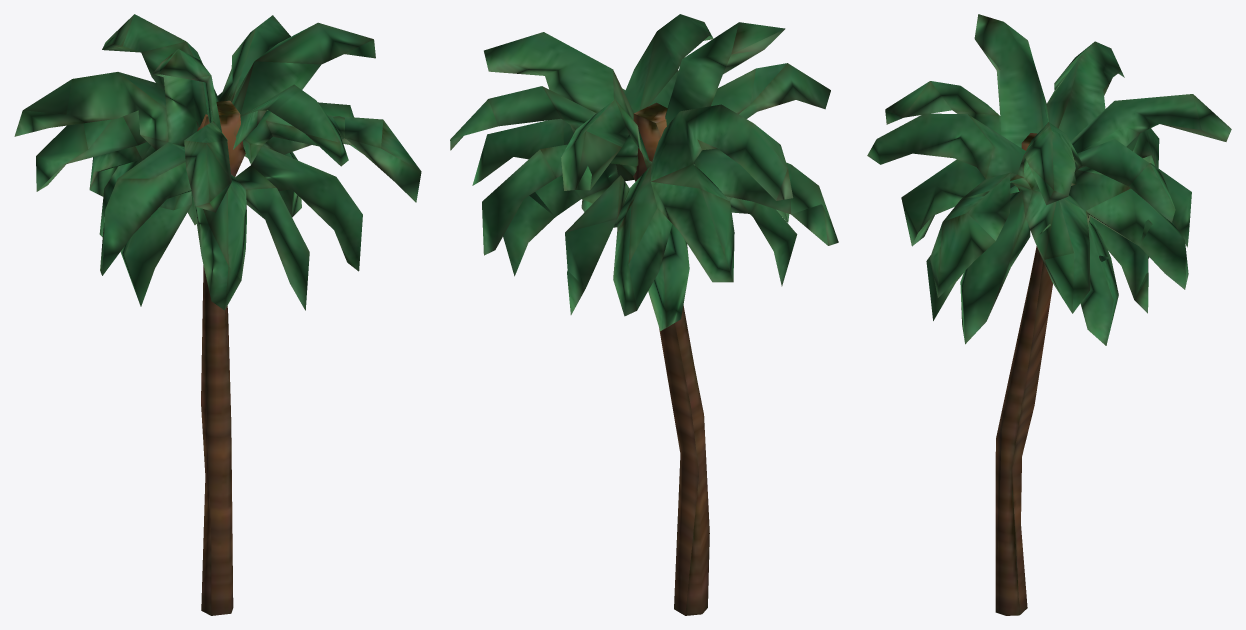
File: palm_a_far.glb
The picture shows the model from 3 angles, left to right: view 1: azimuth 30°, elevation 25°; view 2: azimuth 150°, elevation 25°; view 3: azimuth 270°, elevation 25°; orthographic projection. The views are drawn at different scales.
Parts seen in each view (by area): view 1: body; view 2: body; view 3: body.
Part boxes in pixels (left/top/right/bottom): body: left=14, top=14, right=421, bottom=615; body: left=450, top=14, right=838, bottom=615; body: left=867, top=14, right=1231, bottom=615.
Bounding box in the file's own units: 5.24 × 8.69 × 5.06.
2 materials, 2 textured.
